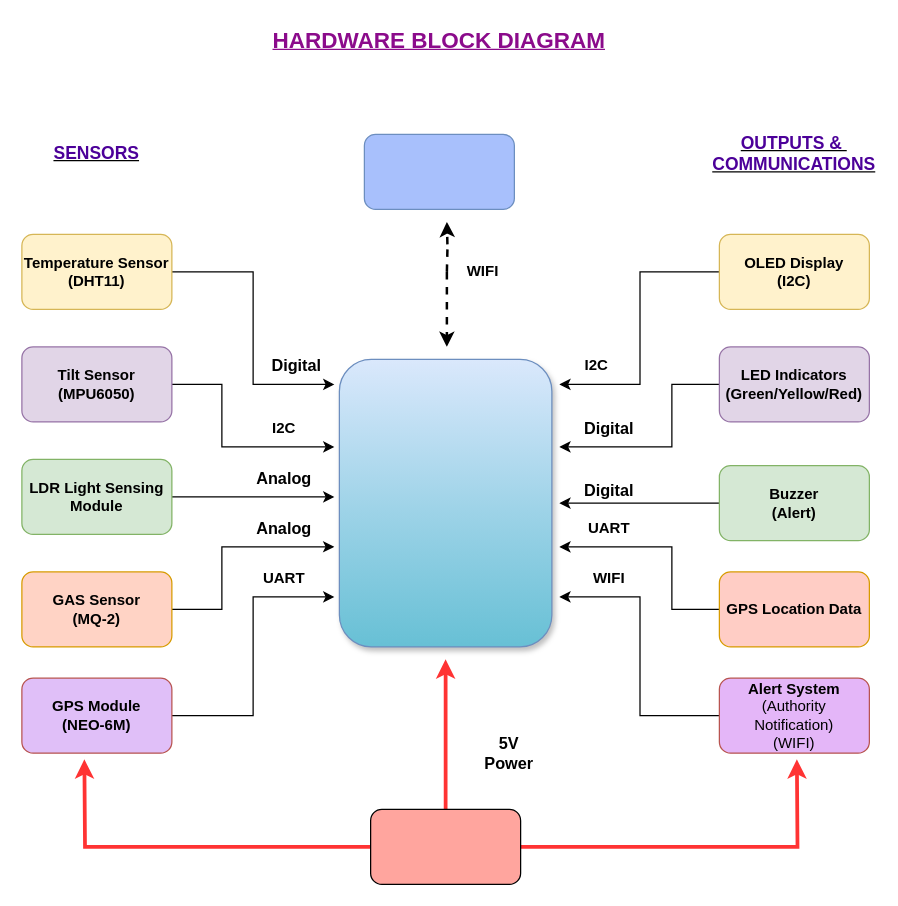
The diagram is 898 pixels wide and 906 high, and some of its shapes have lost their labels. The centre of each missing label's shape, as x and y in pixels:
Dashboard: the point at 438,171
ESP 32 Microcontroller (Processing unit): the point at 446,504
Power Supply (5V / 3.3V): the point at 445,846
